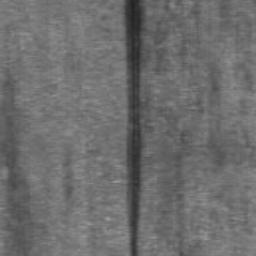Scratches: (125, 0, 145, 256)
